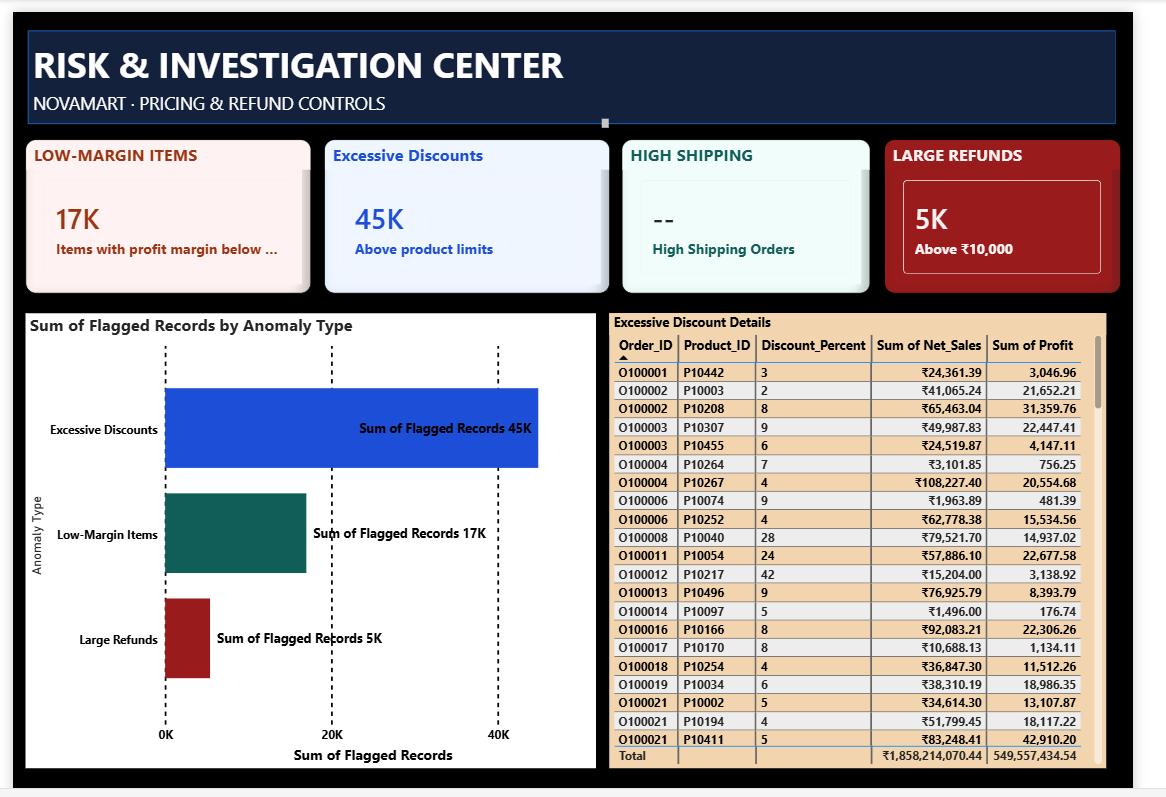

The page's visual inventory and layout, read from the dashboard file:
{"tool":"powerbi","page":{"name":"Page 1Risk & Investigation Center","canvas":[1280,900],"ordinal":1},"visuals":[{"type":"shape","box":[13.3,16.7,1251.7,115],"z":0},{"type":"textbox","title":"RISK & INVESTIGATION CENTER","box":[13.3,16.7,683.3,130],"z":1000},{"type":"cardVisual","title":"LOW-MARGIN ITEMS","fields":{"Data":["order_items.Low Margin Items"]},"box":[14,146,326,176],"z":2000},{"type":"cardVisual","title":"LARGE REFUNDS","fields":{"Data":["order_items.Large Refund Cases"]},"box":[996,146,270,176],"z":3000},{"type":"cardVisual","title":"Excessive Discounts","fields":{"Data":["order_items.Excessive Discount Items"]},"box":[356,146,326,176],"z":4000},{"type":"cardVisual","title":"HIGH SHIPPING","fields":{"Data":["order_items.High Shipping Orders"]},"box":[696,146,284,176],"z":5000},{"type":"clusteredBarChart","fields":{"Category":["Anomaly Summary.Anomaly Type"],"Y":["Sum(Anomaly Summary.Flagged Records)"]},"box":[14,344,652,520],"z":6000},{"type":"tableEx","title":"Excessive Discount Details","fields":{"Values":["order_items.Order_ID","order_items.Product_ID","order_items.Discount_Percent","Sum(order_items.Net_Sales)","Sum(order_items.Profit)"]},"box":[682,344,568,520],"z":7000}]}

Visuals, with their boxes in screenshot pixels (x1, y1, x2, y2), scaled from the page's 1280x900 canvas onto the 1166x797 screenshot:
shape: detection(12, 15, 1152, 117)
"RISK & INVESTIGATION CENTER" textbox: detection(12, 15, 635, 130)
"LOW-MARGIN ITEMS" cardVisual: detection(13, 129, 310, 285)
"LARGE REFUNDS" cardVisual: detection(907, 129, 1153, 285)
"Excessive Discounts" cardVisual: detection(324, 129, 621, 285)
"HIGH SHIPPING" cardVisual: detection(634, 129, 893, 285)
clusteredBarChart - Anomaly Summary.Anomaly Type x Sum(Anomaly Summary.Flagged Records): detection(13, 305, 607, 765)
"Excessive Discount Details" tableEx: detection(621, 305, 1139, 765)
